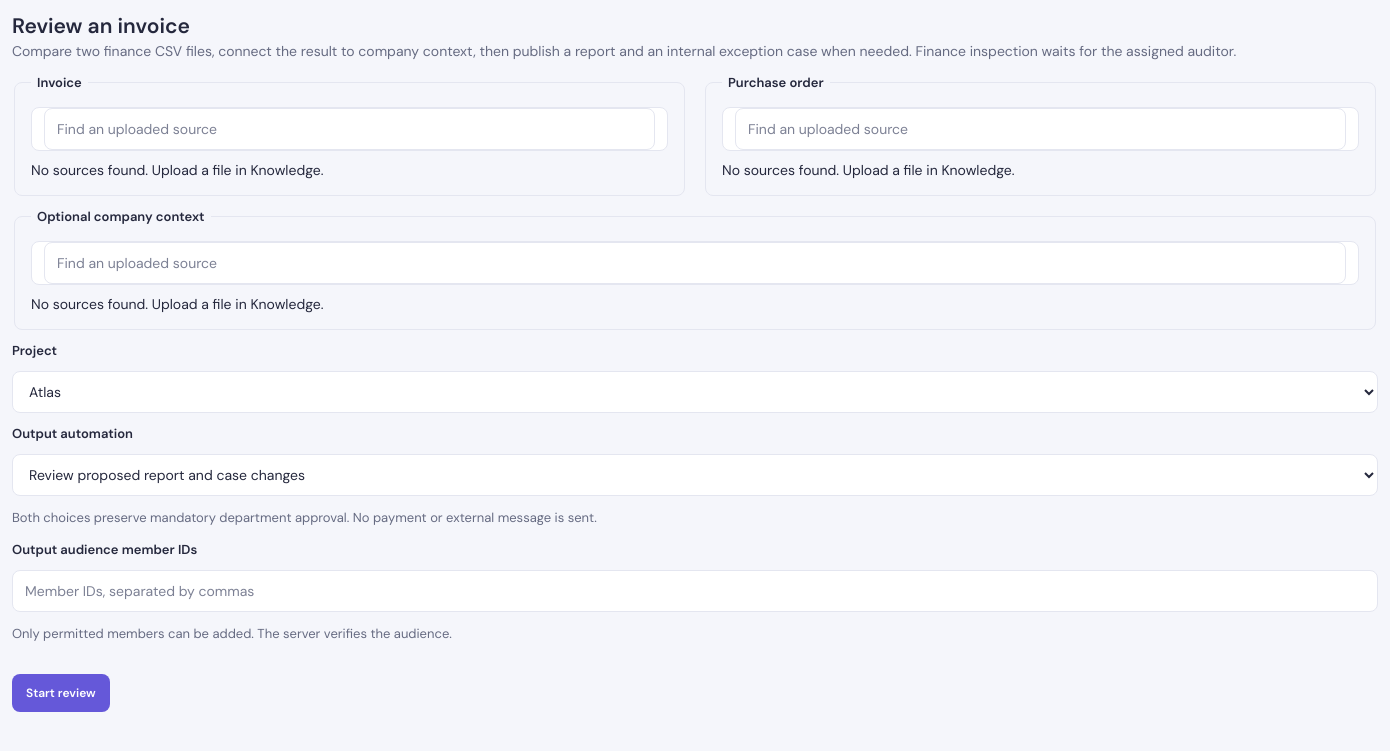
Test case: workflow interactions › requires separate invoice and order before sending work
Click the button "Start review". click: (61, 693)
box: [12,674,110,712]
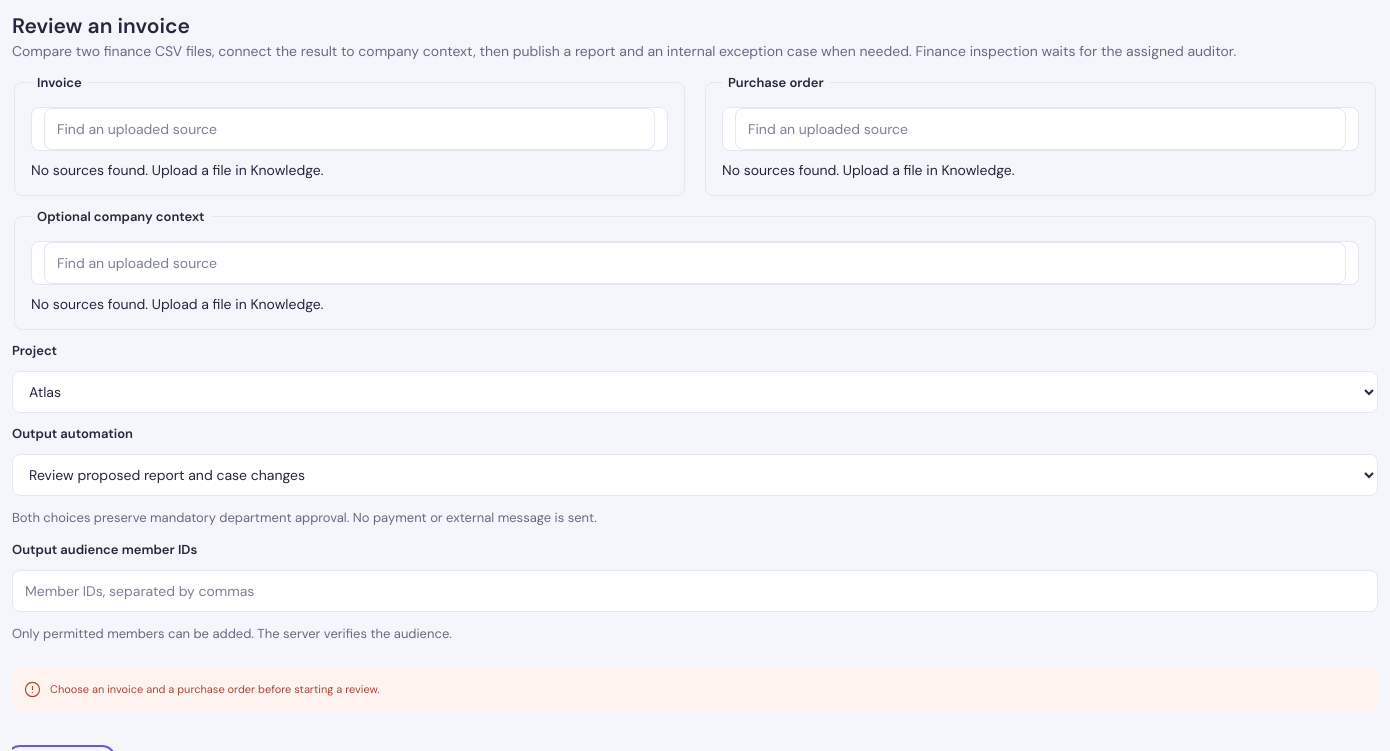
Now the text "Choose an invoice and a purchase order" is shown, box [50,682,380,696]
